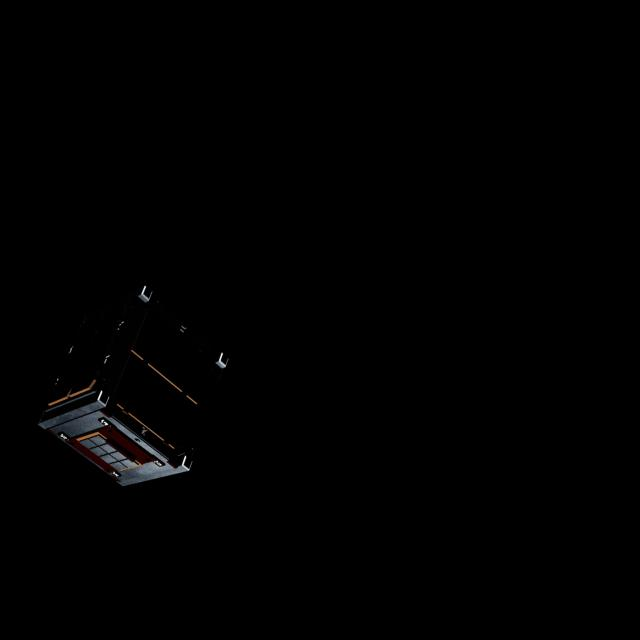medium_debris: (34, 278, 233, 489)
